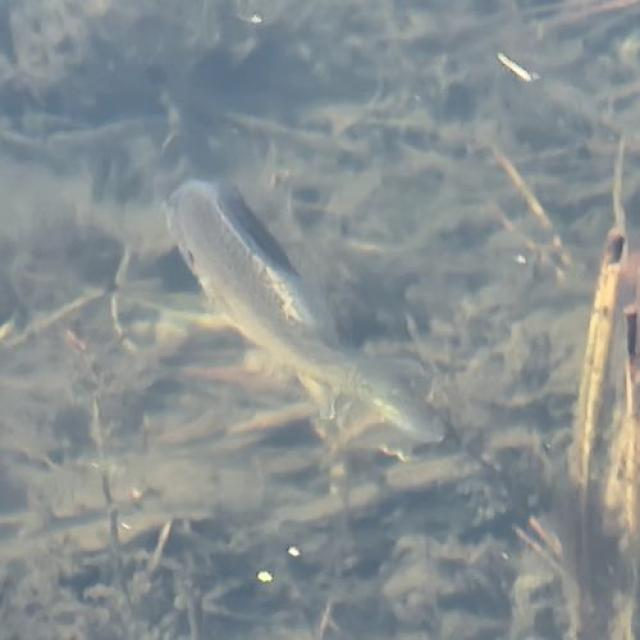Gunes Levregi: (158, 172, 453, 456)
